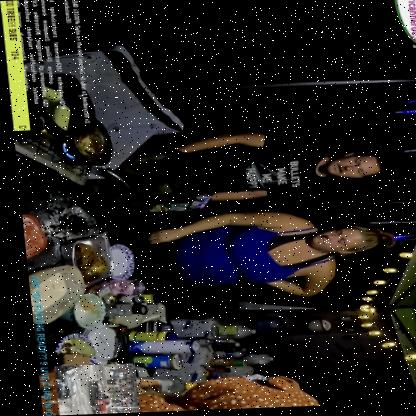streamer: (100, 209, 395, 304), (79, 129, 383, 213)
